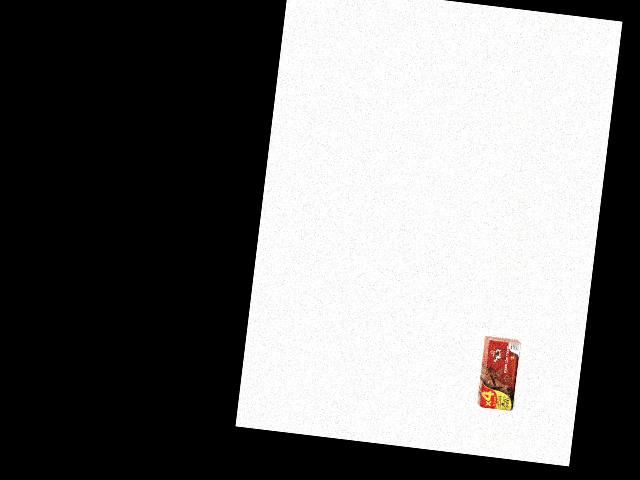chocolate: (476, 337, 522, 412)
